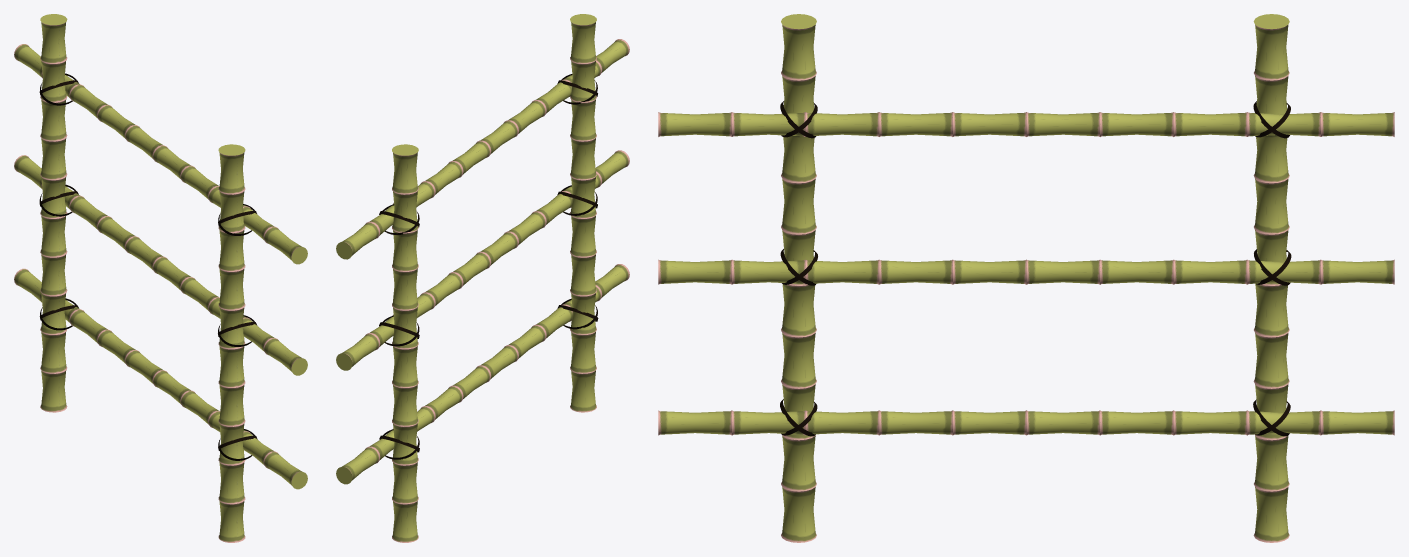
The model's file is fence.obj.
The picture shows the model from 3 angles, left to right: view 1: azimuth 30°, elevation 25°; view 2: azimuth 150°, elevation 25°; view 3: azimuth 270°, elevation 25°; orthographic projection. The views are drawn at different scales.
Parts seen in each view (by area): view 1: bambook_Цилиндр.001, bambook_Цилиндр.003, bambook_Цилиндр.002, bambook_Цилиндр.004, bambook_Цилиндр.005; view 2: bambook_Цилиндр.003, bambook_Цилиндр.001, bambook_Цилиндр.002, bambook_Цилиндр.004, bambook_Цилиндр.005; view 3: bambook_Цилиндр.005, bambook_Цилиндр.004, bambook_Цилиндр.002, bambook_Цилиндр.001, bambook_Цилиндр.003.
Part boxes in pixels (x1=…): bambook_Цилиндр.001: x1=40, y1=14, x2=67, y2=412; bambook_Цилиндр.003: x1=218, y1=144, x2=245, y2=542; bambook_Цилиндр.002: x1=14, y1=44, x2=307, y2=264; bambook_Цилиндр.004: x1=14, y1=155, x2=307, y2=375; bambook_Цилиндр.005: x1=14, y1=268, x2=307, y2=489; bambook_Цилиндр.003: x1=570, y1=14, x2=596, y2=412; bambook_Цилиндр.001: x1=392, y1=144, x2=418, y2=542; bambook_Цилиндр.002: x1=336, y1=39, x2=629, y2=259; bambook_Цилиндр.004: x1=336, y1=150, x2=629, y2=370; bambook_Цилиндр.005: x1=336, y1=264, x2=629, y2=484; bambook_Цилиндр.005: x1=658, y1=410, x2=1394, y2=435; bambook_Цилиндр.004: x1=658, y1=259, x2=1394, y2=284; bambook_Цилиндр.002: x1=658, y1=112, x2=1394, y2=136; bambook_Цилиндр.001: x1=1253, y1=14, x2=1289, y2=542; bambook_Цилиндр.003: x1=781, y1=14, x2=816, y2=542.
Bounding box in the file's own units: 0.9866 × 9.82 × 12.75.
